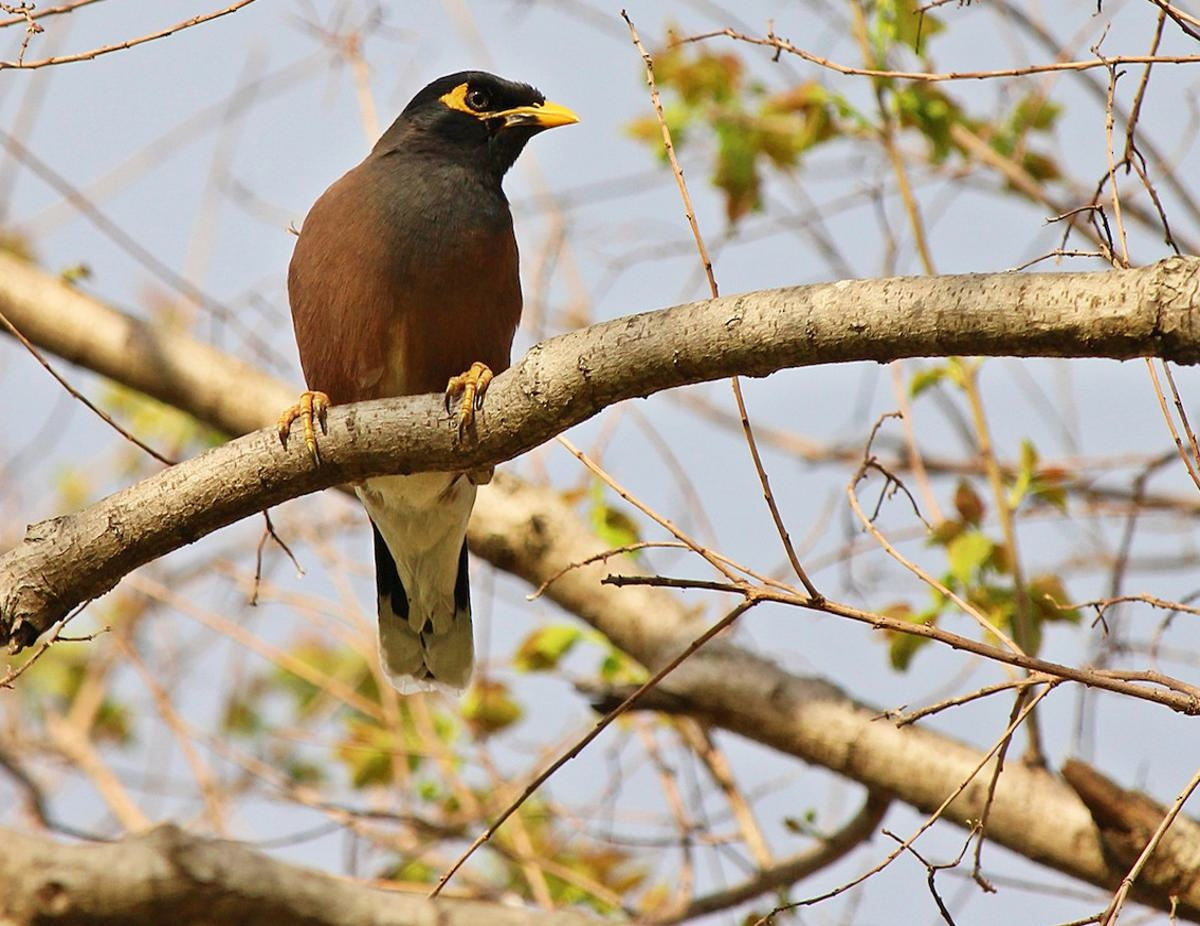myna: (255, 83, 600, 530)
